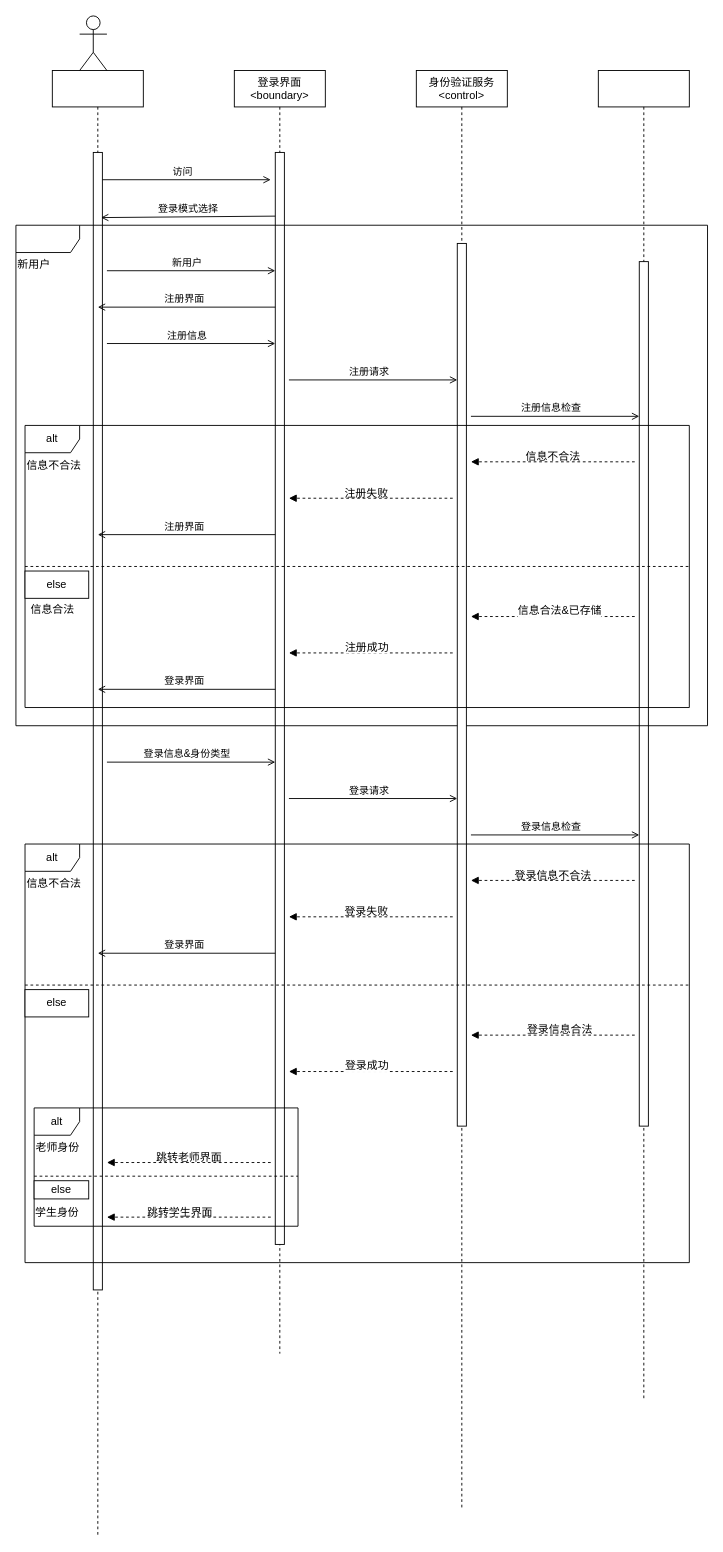
The diagram is 723 pixels wide and 1552 high, and some of its shapes have lost their labels. Each missing label, with the box of its shape:
opt: (15, 224, 708, 726)
用户: (51, 70, 143, 1536)
用户信息库 <entry>: (597, 70, 689, 1399)
